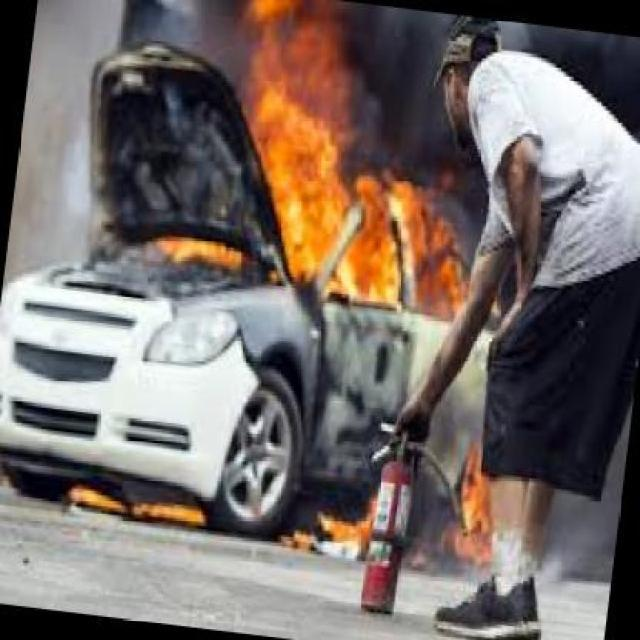Fire: (248, 0, 359, 305), (348, 162, 459, 308), (53, 464, 215, 530), (456, 448, 499, 560), (290, 505, 386, 553)
Smoke: (348, 6, 449, 148), (508, 28, 640, 96), (165, 5, 234, 60)
